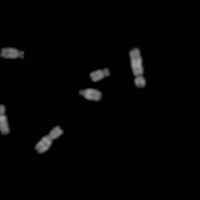chromosome: (34, 125, 64, 153), (129, 48, 147, 90), (80, 85, 101, 102), (89, 67, 112, 82), (0, 104, 11, 135), (0, 47, 23, 58)
